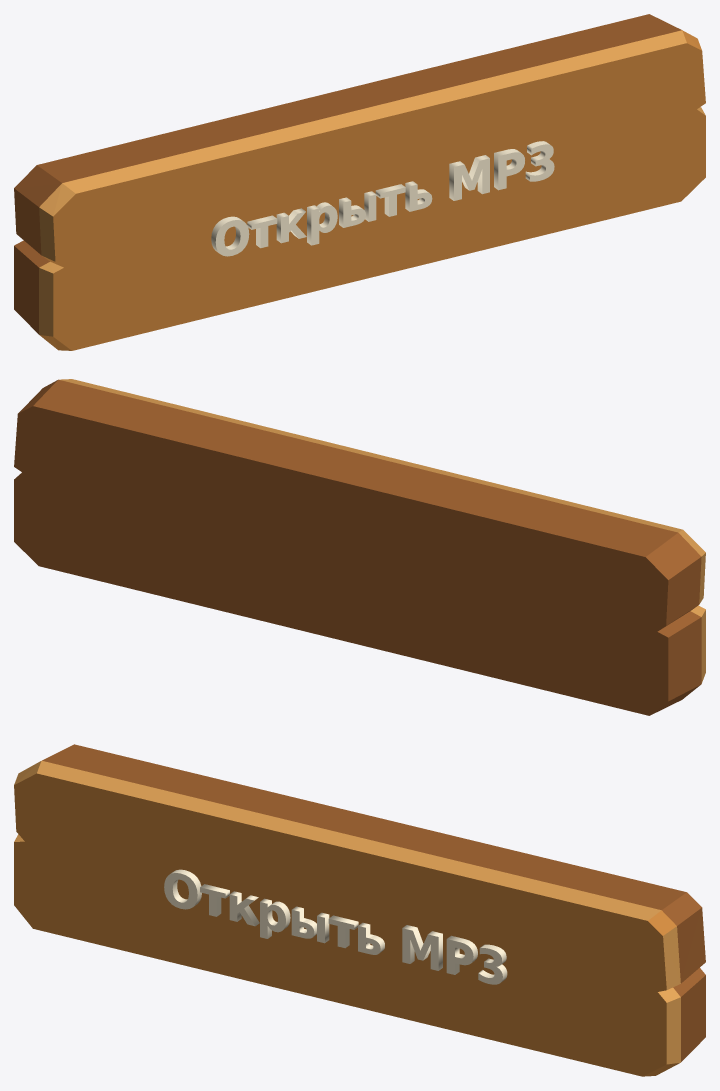
File: OpenMP3.fbx
3 views of the same model, one above another, from view 1: azimuth 30°, elevation 25°; view 2: azimuth 150°, elevation 25°; view 3: azimuth 330°, elevation 25° (orthographic).
Visible parts, largest first — view 1: Stone.008, Label; view 2: Stone.008; view 3: Stone.008, Label.
Boxes of the visible parts, x1,y1,x2,y2 form: Stone.008: (14, 14, 705, 350); Label: (211, 141, 554, 256); Stone.008: (14, 379, 705, 715); Stone.008: (14, 744, 705, 1076); Label: (164, 869, 507, 984).
Size of the model in its own units: 0.289 by 0.07 by 0.0337.
